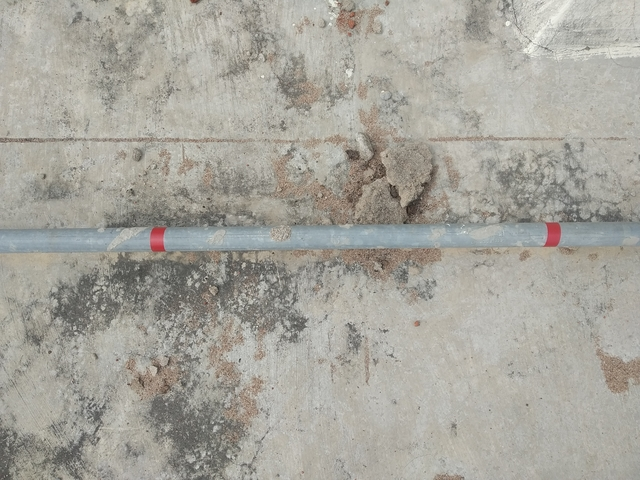rust: (542, 218, 564, 253), (146, 224, 170, 256)
